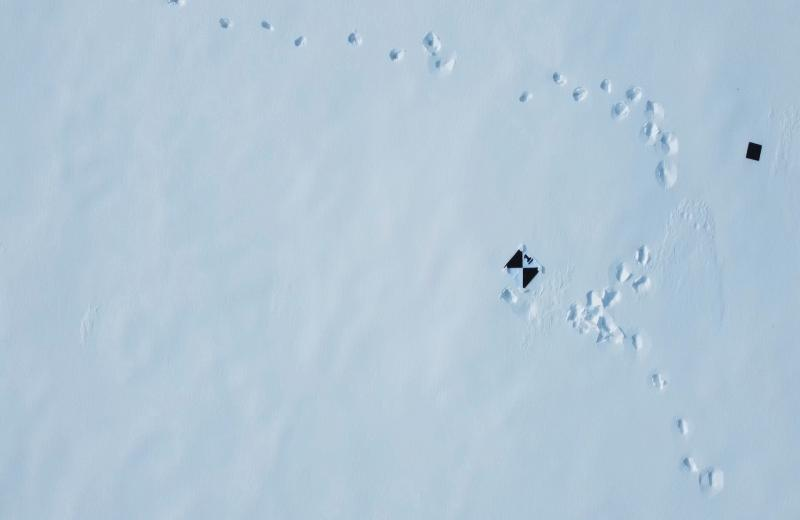Square: (744, 141, 762, 163)
